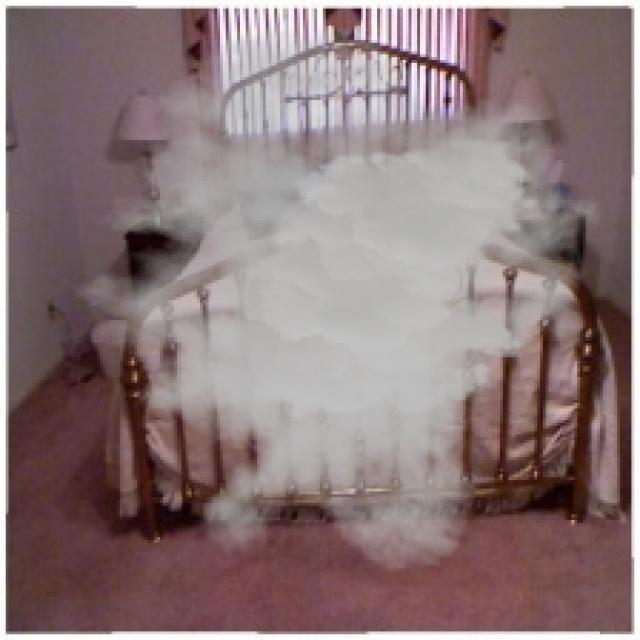Smoke: (48, 26, 603, 574)
